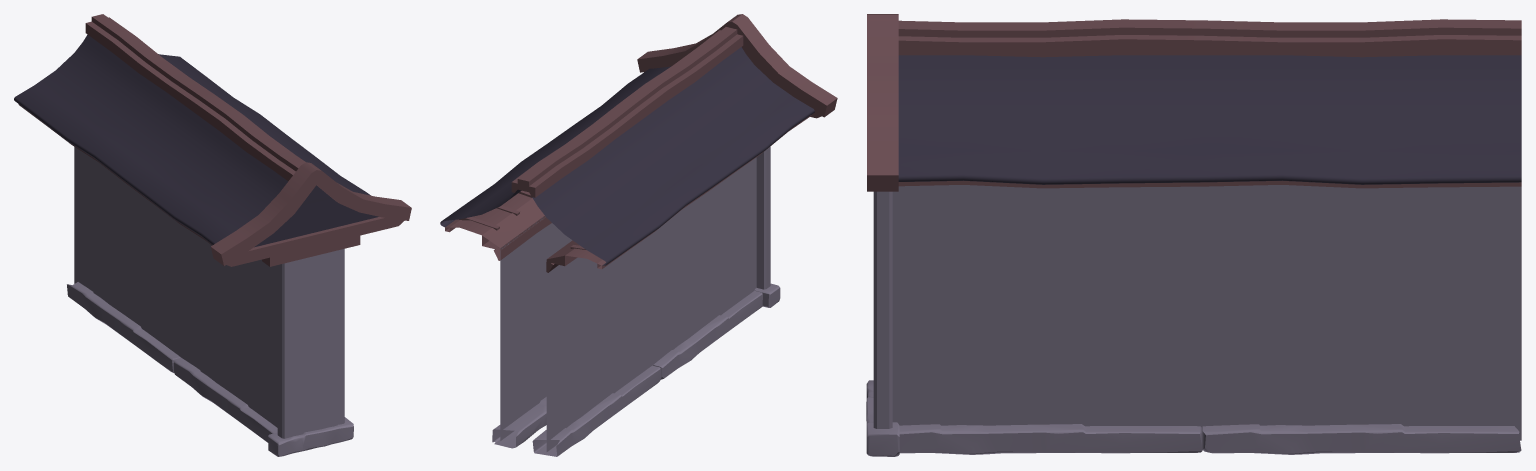
File: wall_end.fbx
The picture shows the model from 3 angles, left to right: view 1: azimuth 30°, elevation 25°; view 2: azimuth 150°, elevation 25°; view 3: azimuth 270°, elevation 25°; orthographic projection. The views are drawn at different scales.
Parts seen in each view (by area): view 1: wall_end; view 2: wall_end; view 3: wall_end.
Part boxes in pixels (left/top/right/bottom): wall_end: left=14, top=14, right=411, bottom=456; wall_end: left=440, top=14, right=837, bottom=456; wall_end: left=866, top=14, right=1521, bottom=456.
Bounding box in the file's own units: 411 × 577 × 822.
